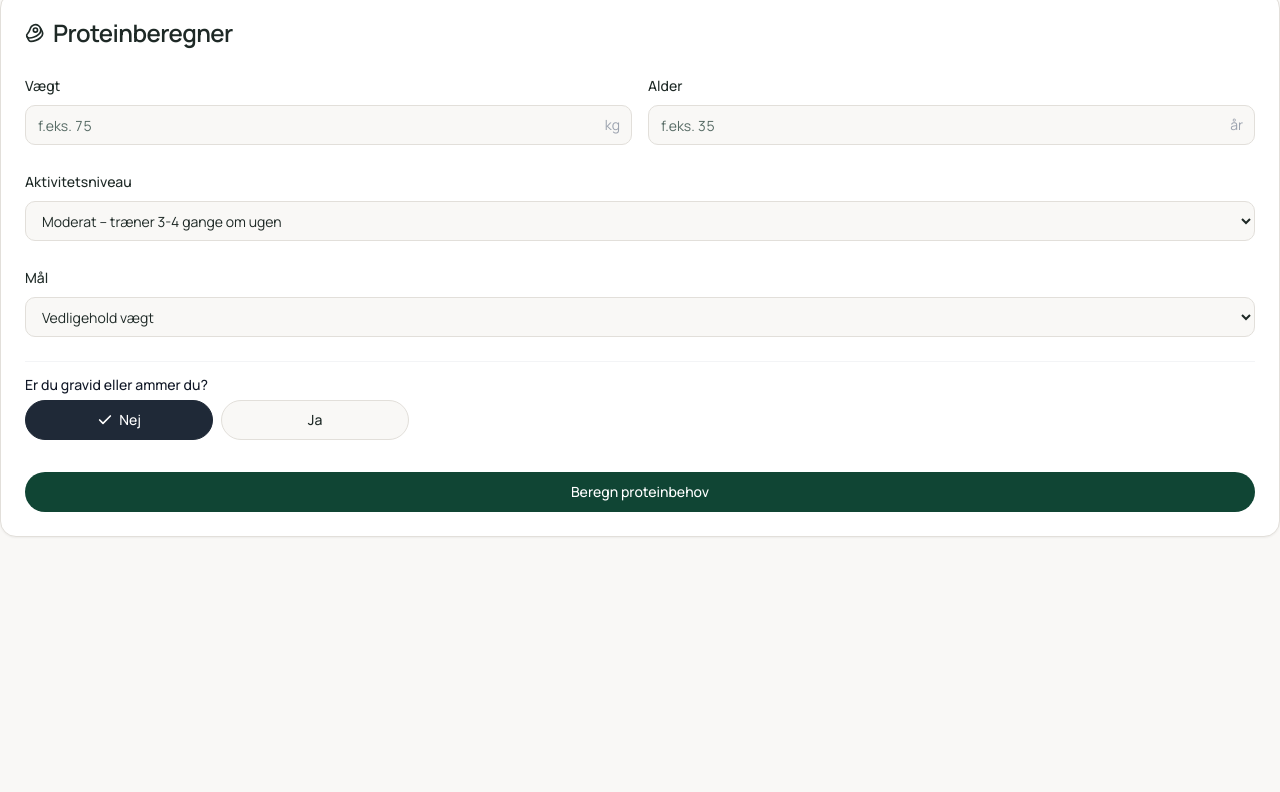
Test: ProteinCalculator › raises a sedentary visitor over 65 above the usual floor and says so
In the field labelled "Vægt": (328, 125) [25,105,632,145], type "80"
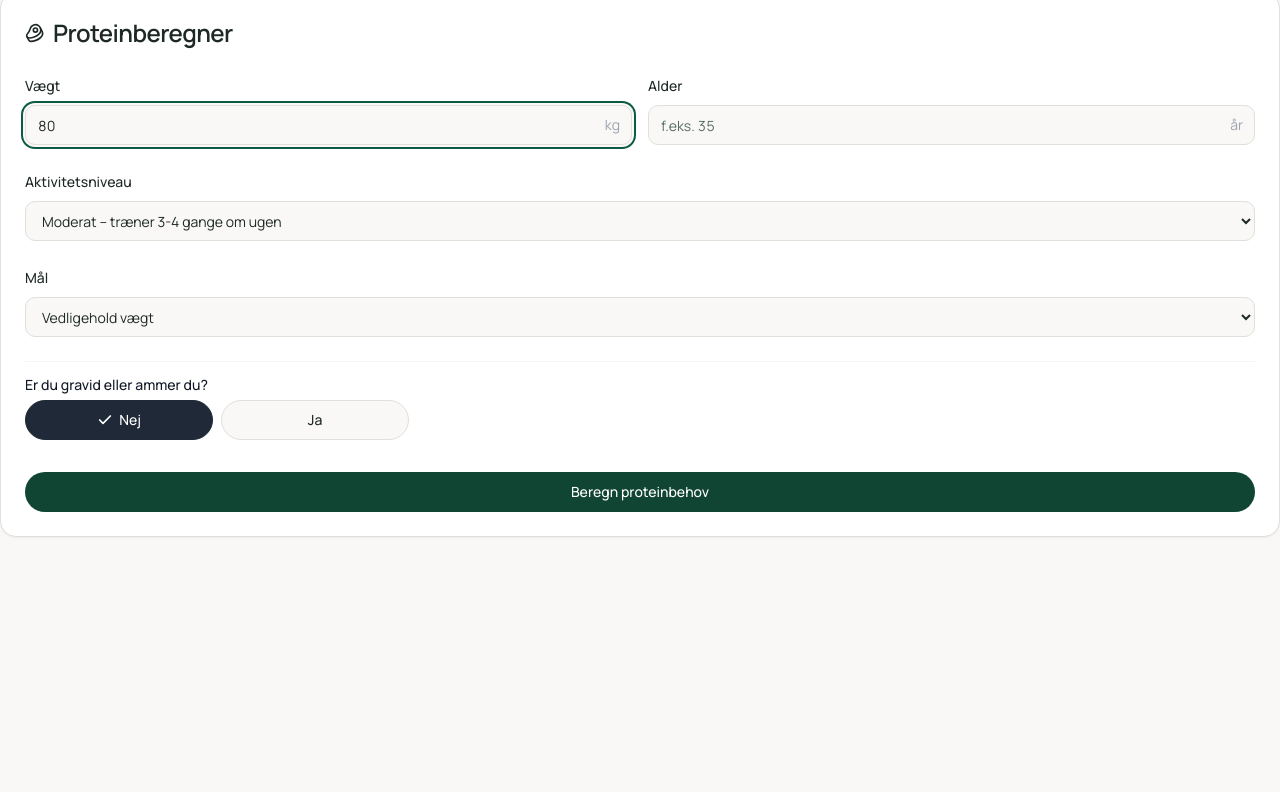
In the field labelled "Alder": (952, 125) [648,105,1255,145], type "70"
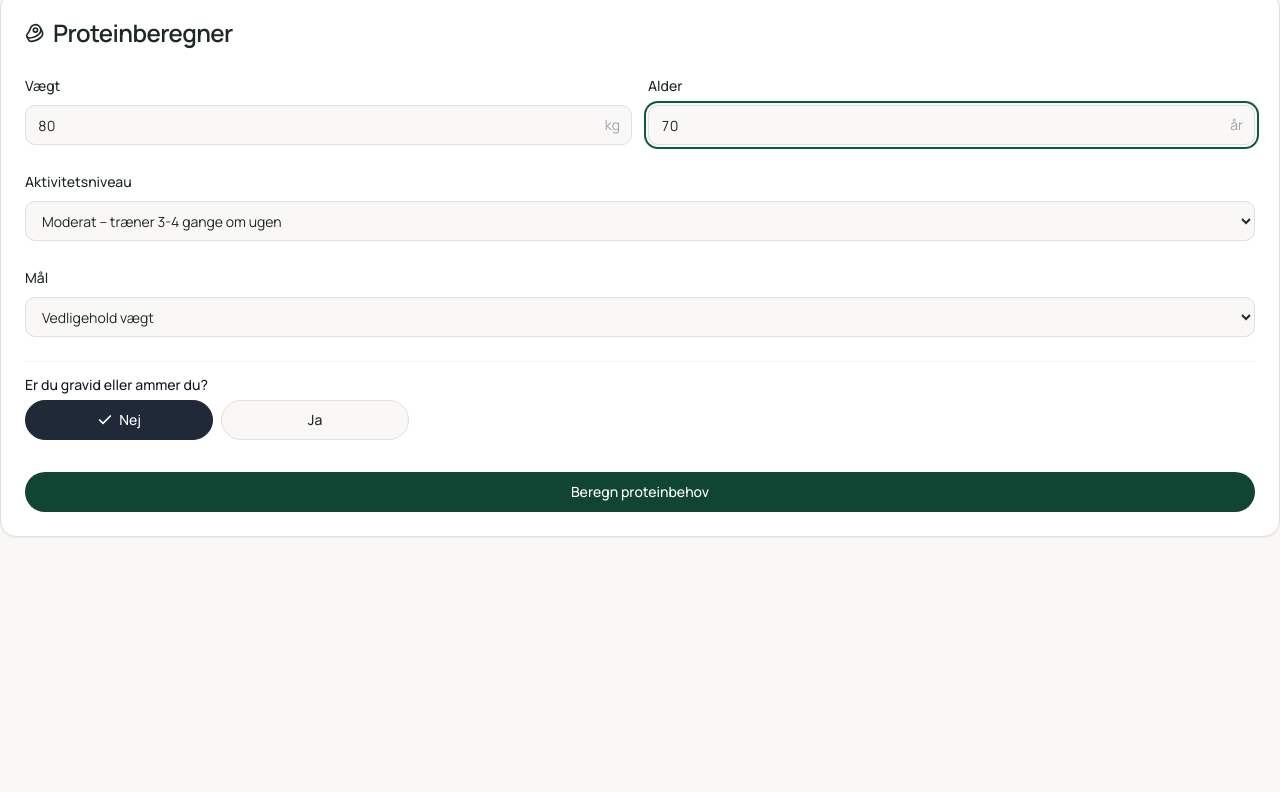
Select "Stillesiddende – ingen eller lidt motion" in the dropdown labelled "Aktivitetsniveau": (640, 221) [25,201,1255,241]
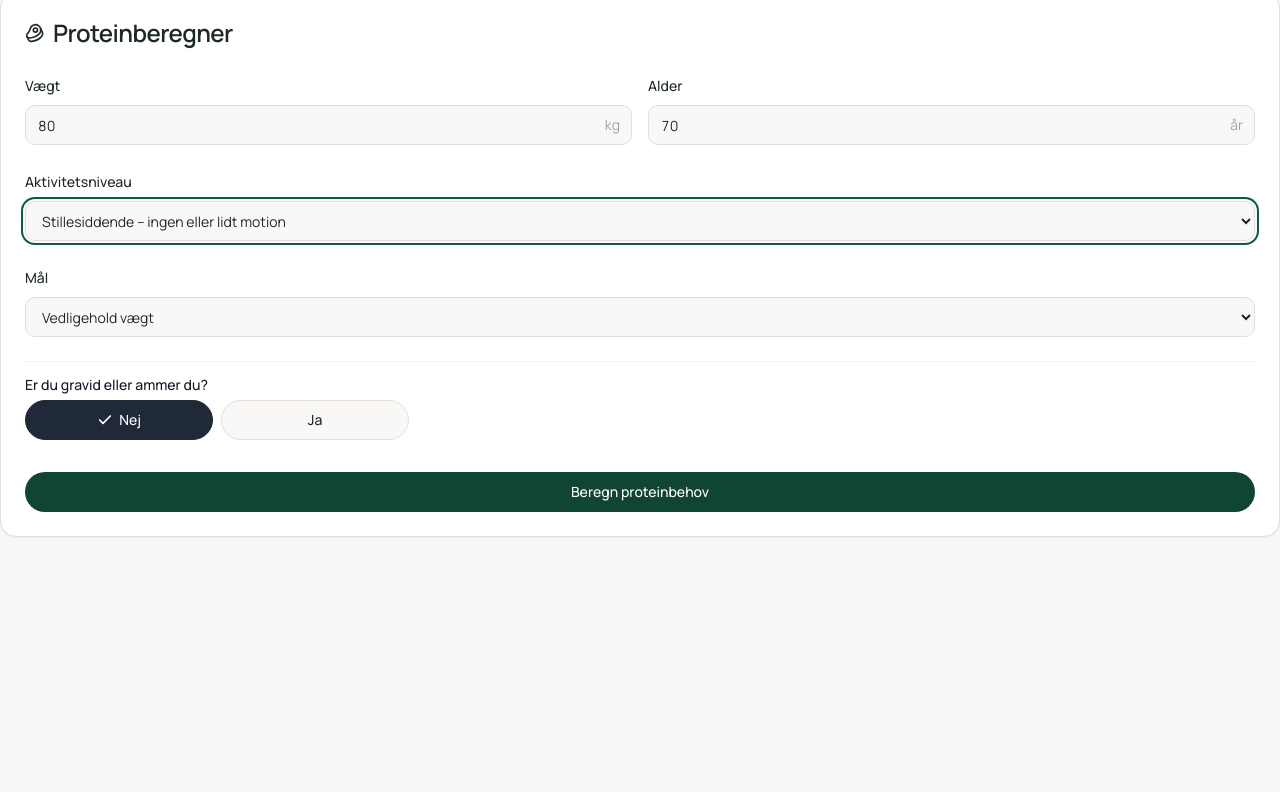
Click the button "Beregn proteinbehov": (640, 492) [25,472,1255,512]
(page scrolled)
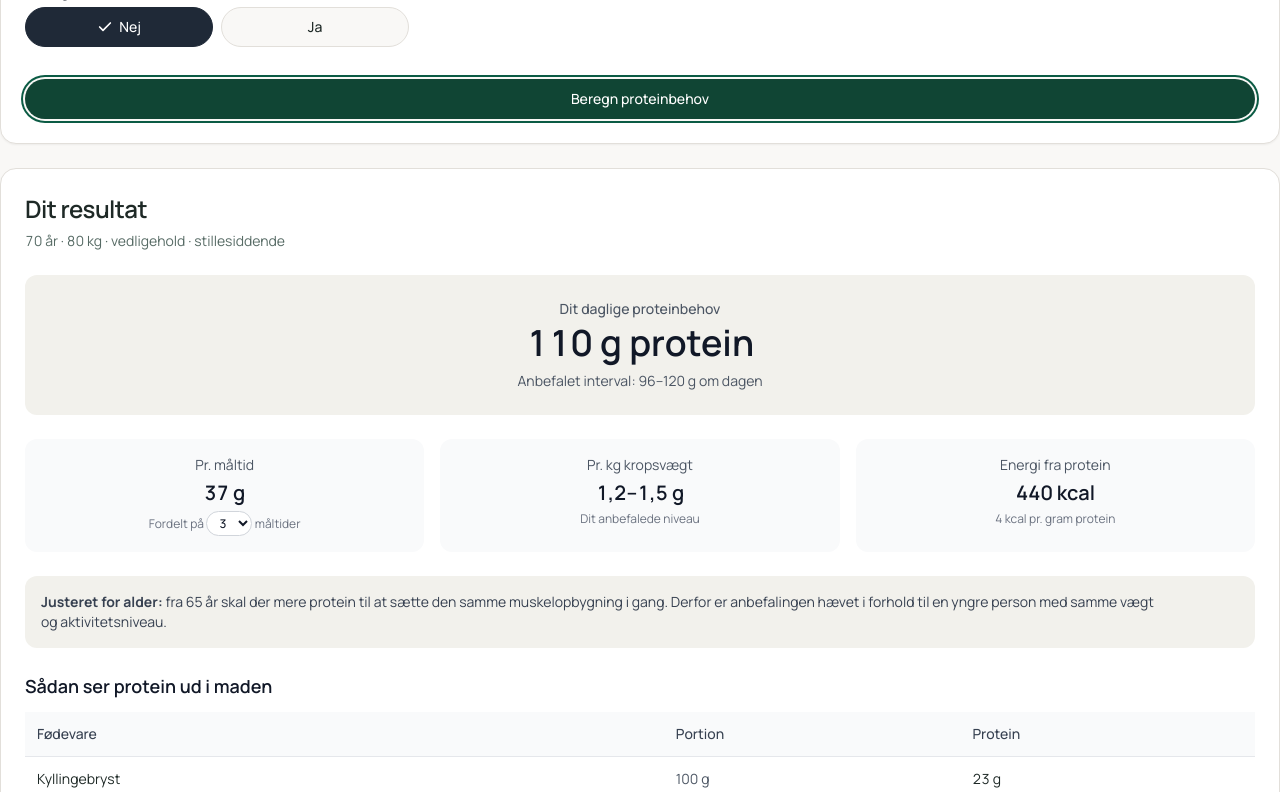
Result: the text "Justeret for alder:" is shown at [41,592,163,611]
Result: the text "1,2–1,5 g" is shown at [596,479,684,506]
